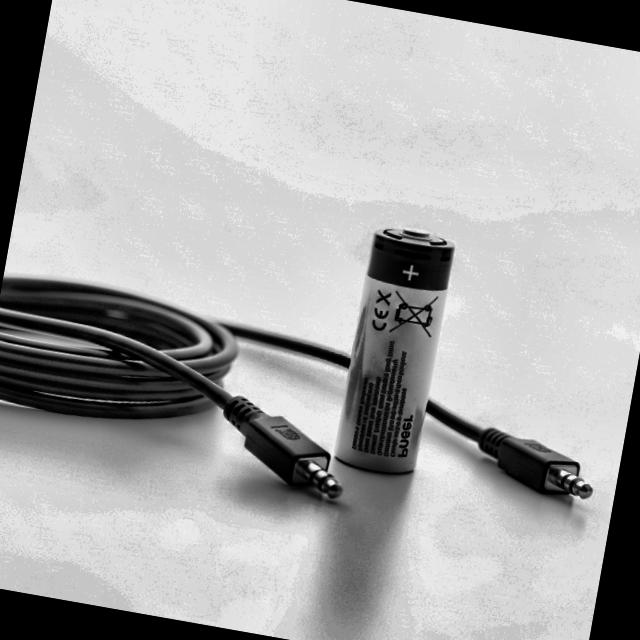Battery: (331, 221, 457, 479)
Cable: (0, 273, 614, 542)
